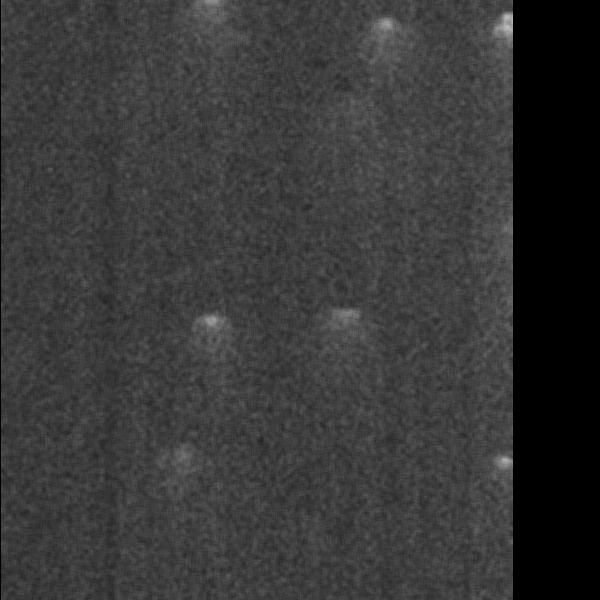spark: (364, 13, 410, 73), (317, 300, 367, 354), (189, 309, 229, 360), (169, 442, 193, 484), (497, 448, 513, 492)
